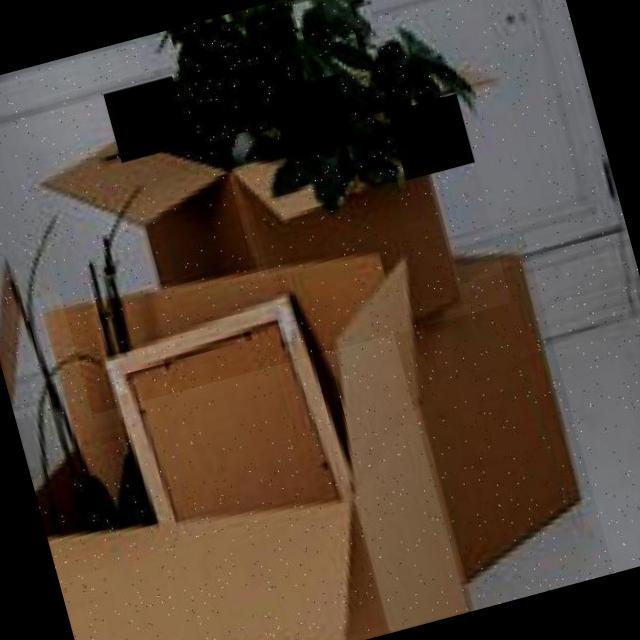box: (0, 201, 503, 640), (24, 45, 512, 414), (377, 234, 614, 612)
